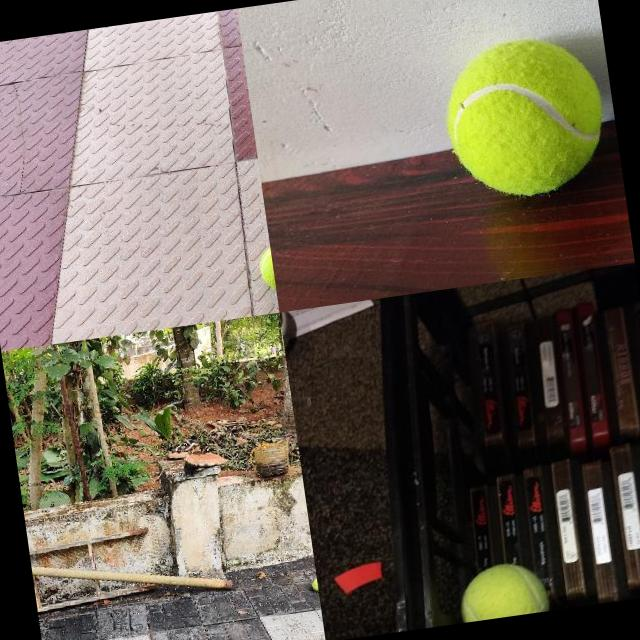tennis-ball: (437, 29, 614, 206), (452, 556, 552, 622), (256, 244, 276, 294), (310, 578, 318, 593)
